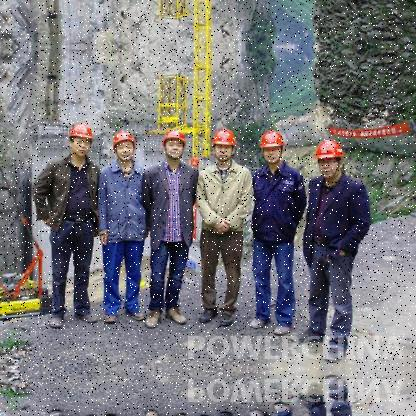Helmet: (312, 130, 349, 183), (206, 125, 240, 167), (257, 127, 289, 168), (108, 124, 138, 166), (160, 128, 190, 166), (70, 122, 98, 159)
